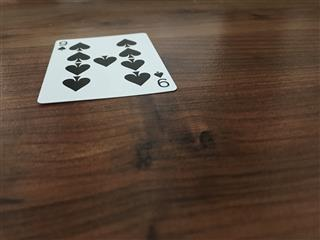NineOfSpades: (36, 31, 177, 103)
